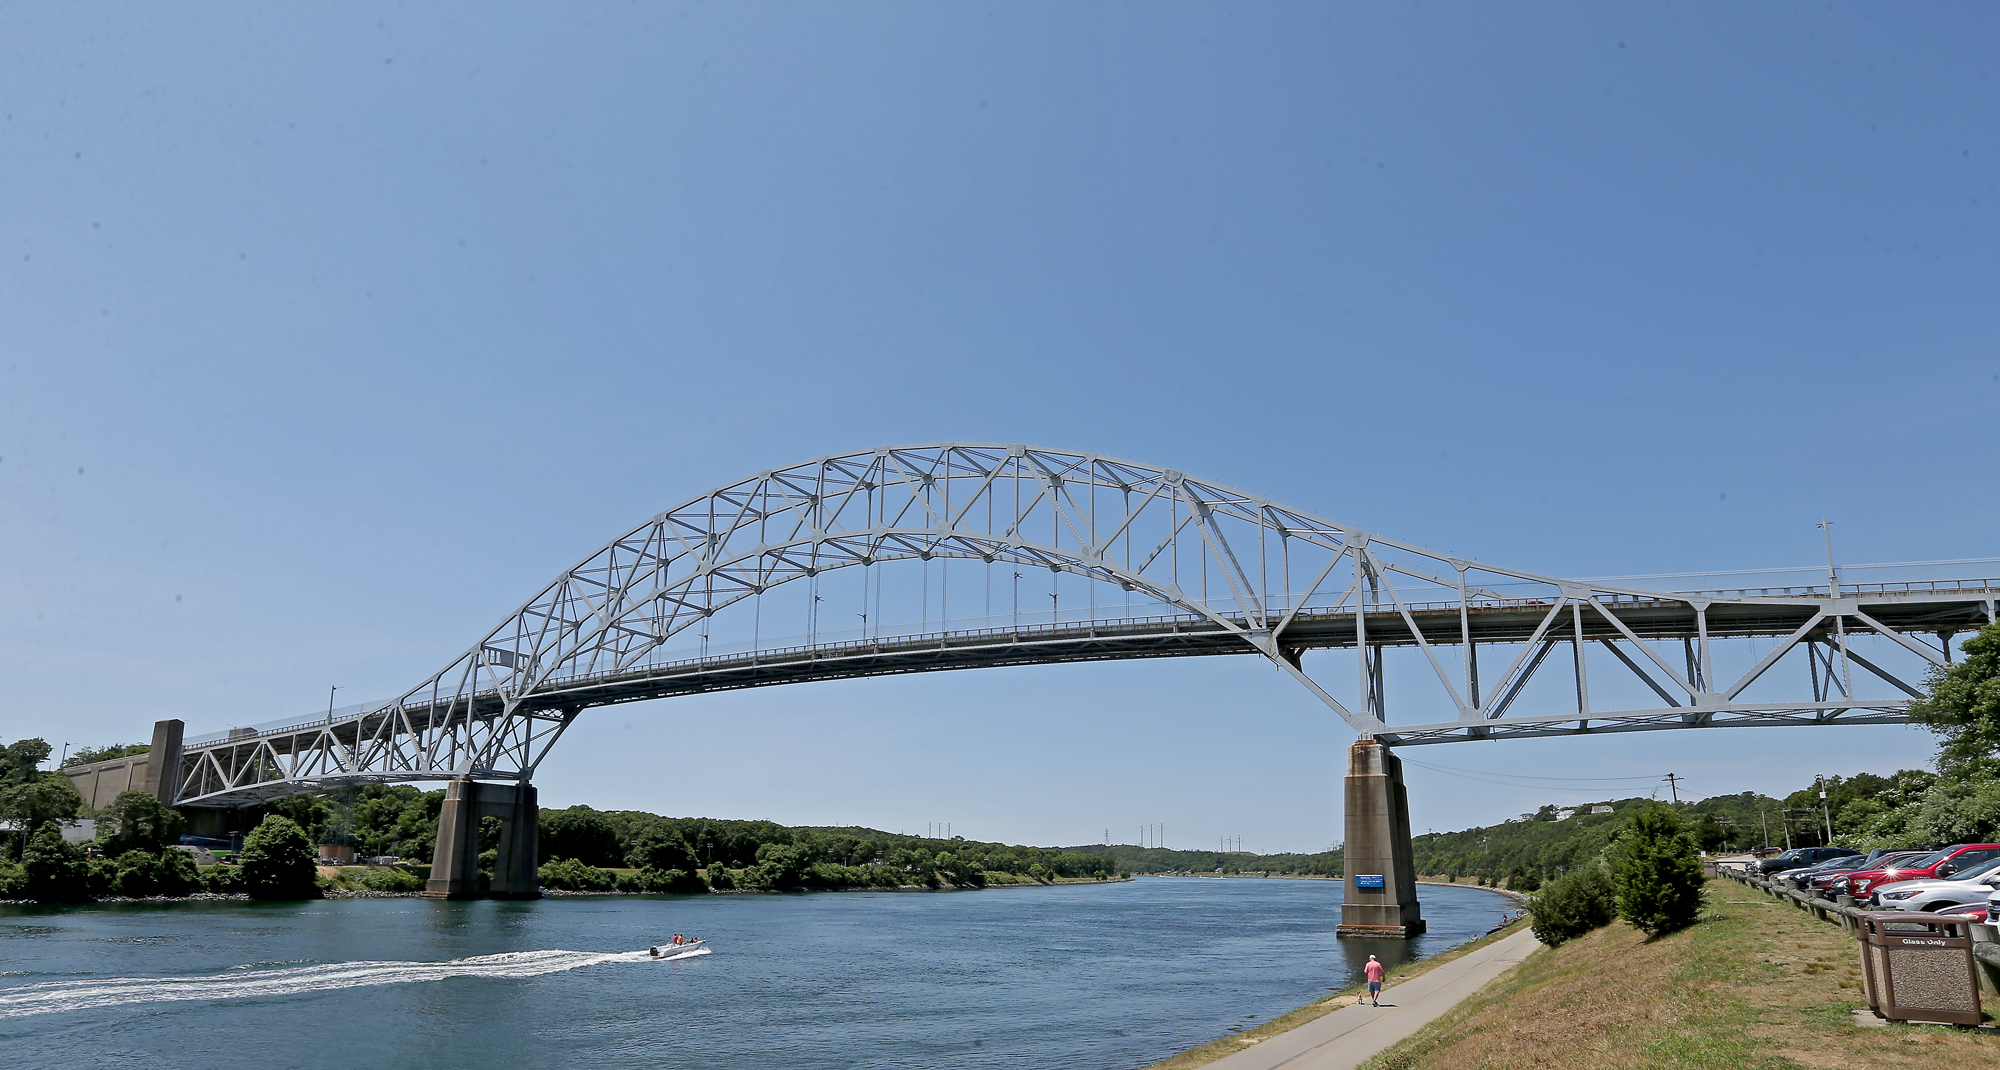bridge: (24, 430, 1996, 843)
